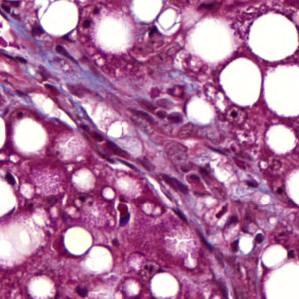steatosis: (219, 58, 264, 106), (12, 117, 49, 155)
